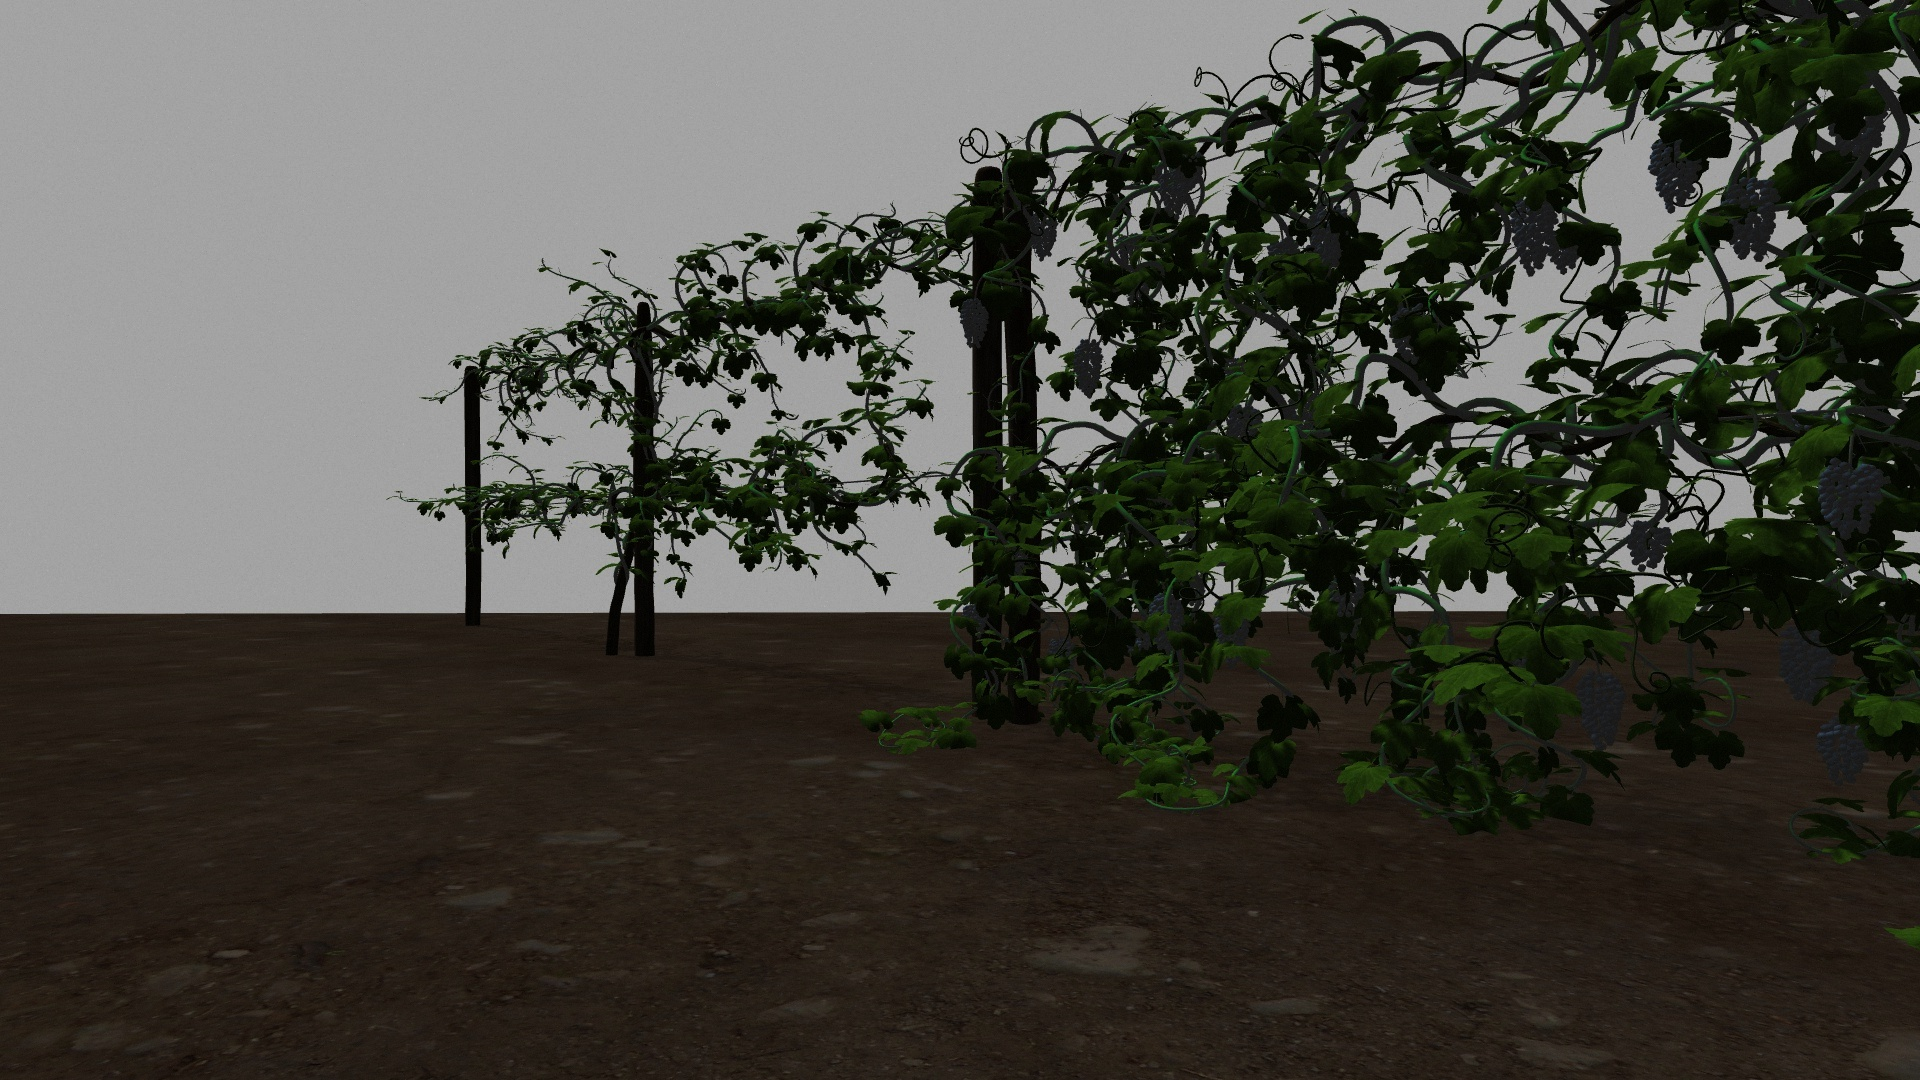grape: (1813, 458, 1890, 539), (1720, 175, 1778, 262), (1572, 670, 1629, 750), (1779, 622, 1836, 703), (1646, 136, 1704, 214), (1816, 715, 1870, 789), (1507, 195, 1553, 276), (1828, 109, 1888, 156), (1149, 589, 1185, 655), (1308, 204, 1345, 269), (1626, 521, 1672, 571), (1069, 339, 1104, 401), (1029, 204, 1059, 261), (961, 294, 989, 352), (1224, 402, 1261, 444), (1545, 229, 1578, 276), (1160, 166, 1189, 218), (963, 604, 989, 636)
